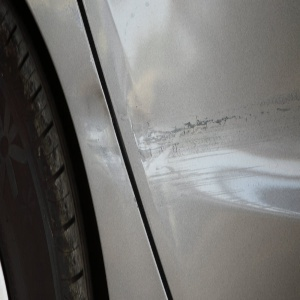bumper_scratch: (55, 97, 297, 171)
